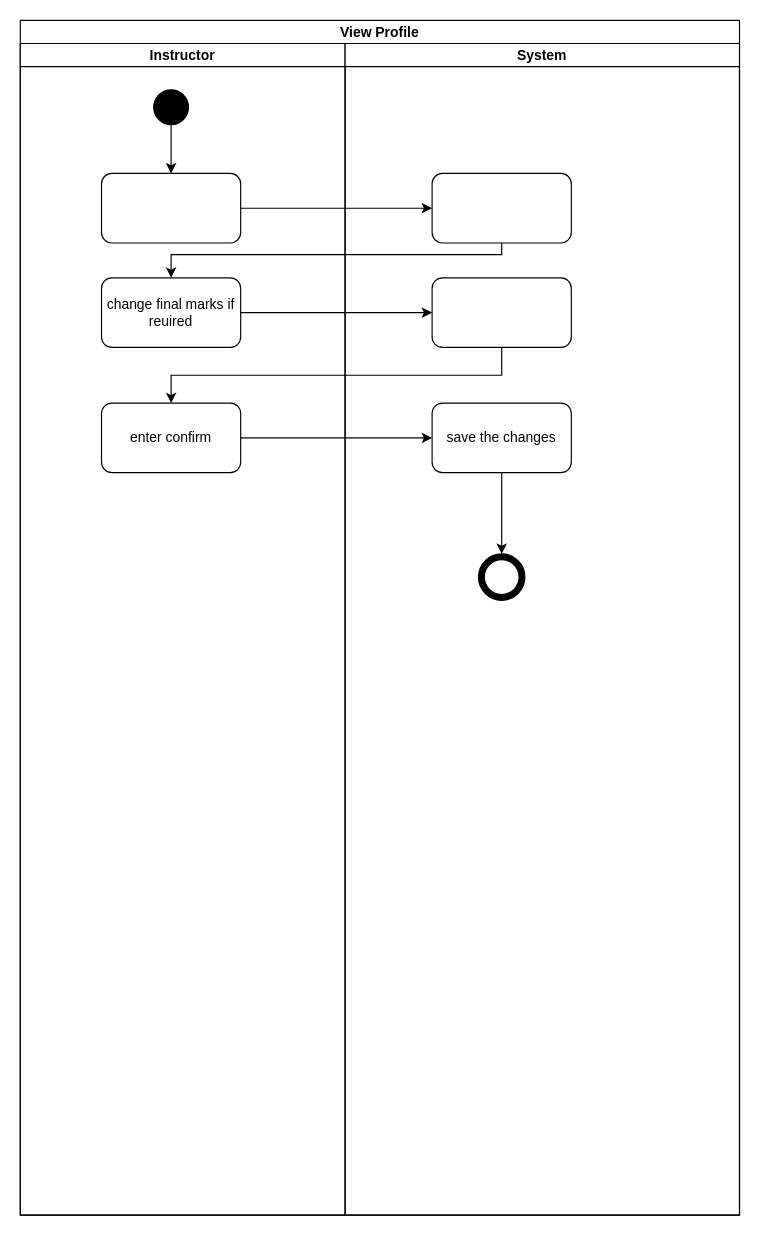
This 760x1235 diagram has some shape labels left out. The shapes that lost their labels are listed below. From the top down, each one's centre as x and y in pixels, then its label:
At (x=170, y=207): "click to view grades of the assignment".
At (x=501, y=207): "display list of grades".
At (x=501, y=312): "prompt for confirm".
